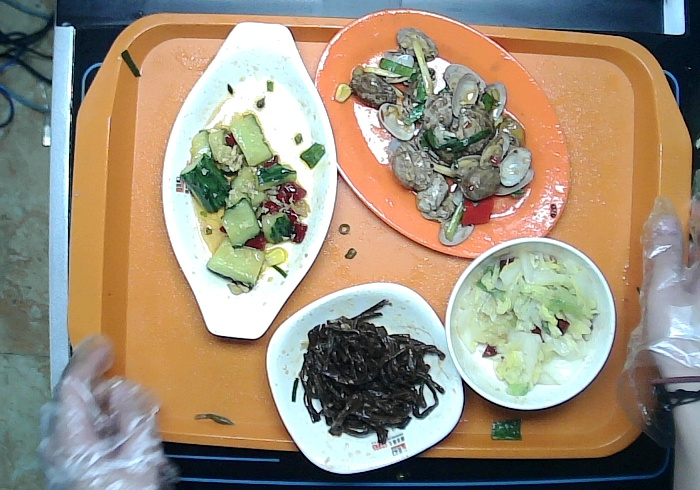NLDX-Bai_Se_Xiao_Fang_Die: (262, 278, 469, 476)
NLDX-Fan_Wan: (442, 233, 618, 411)
NLDX-Ju_Se_Pan: (312, 7, 575, 265)
NLDX-Yu_Pan: (159, 18, 346, 346)
